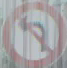Don't turn left: (9, 3, 57, 55)
